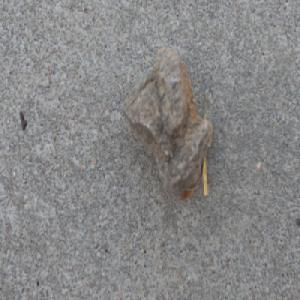Rock: (119, 43, 212, 201)
